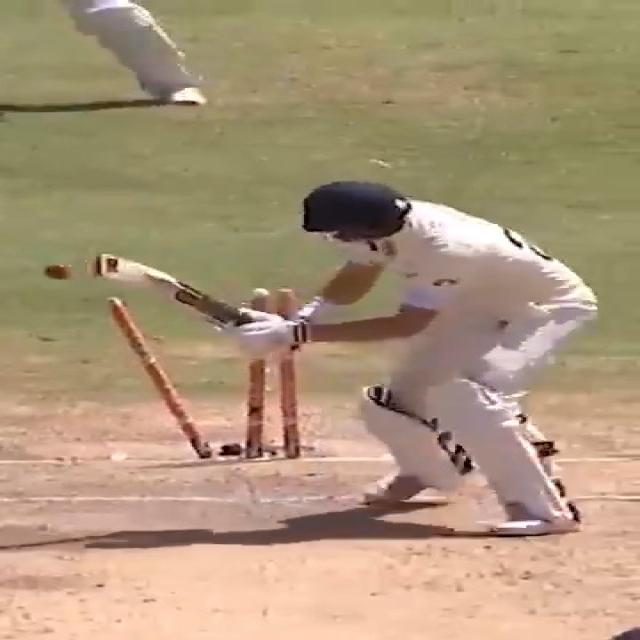ball: (44, 261, 74, 282)
stump: (191, 285, 296, 461)
